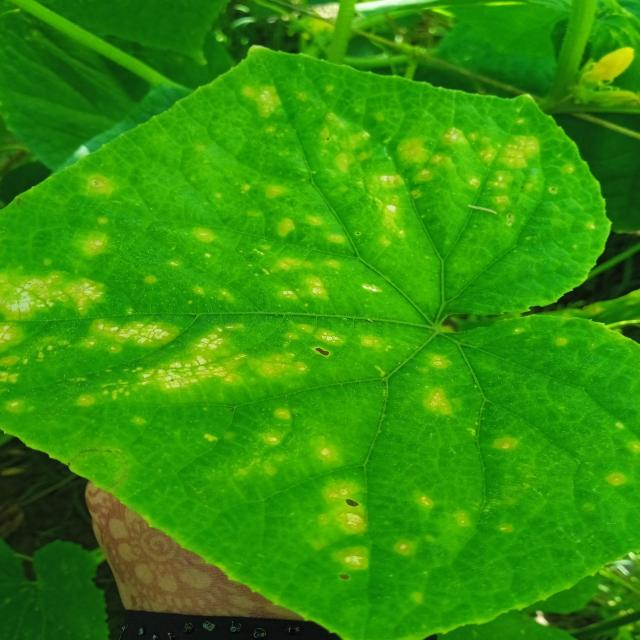cucumber_downy: (0, 82, 623, 604)
